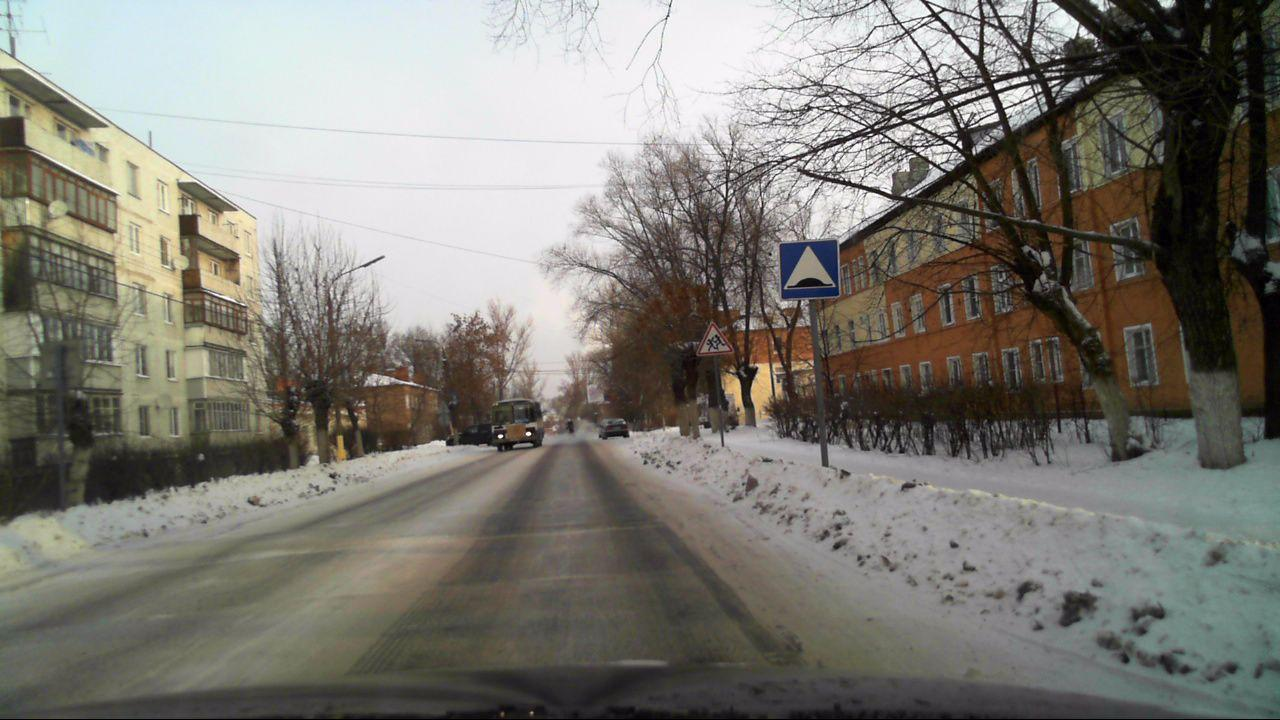1_23: (697, 319, 735, 357)
5_20: (779, 239, 840, 299)
